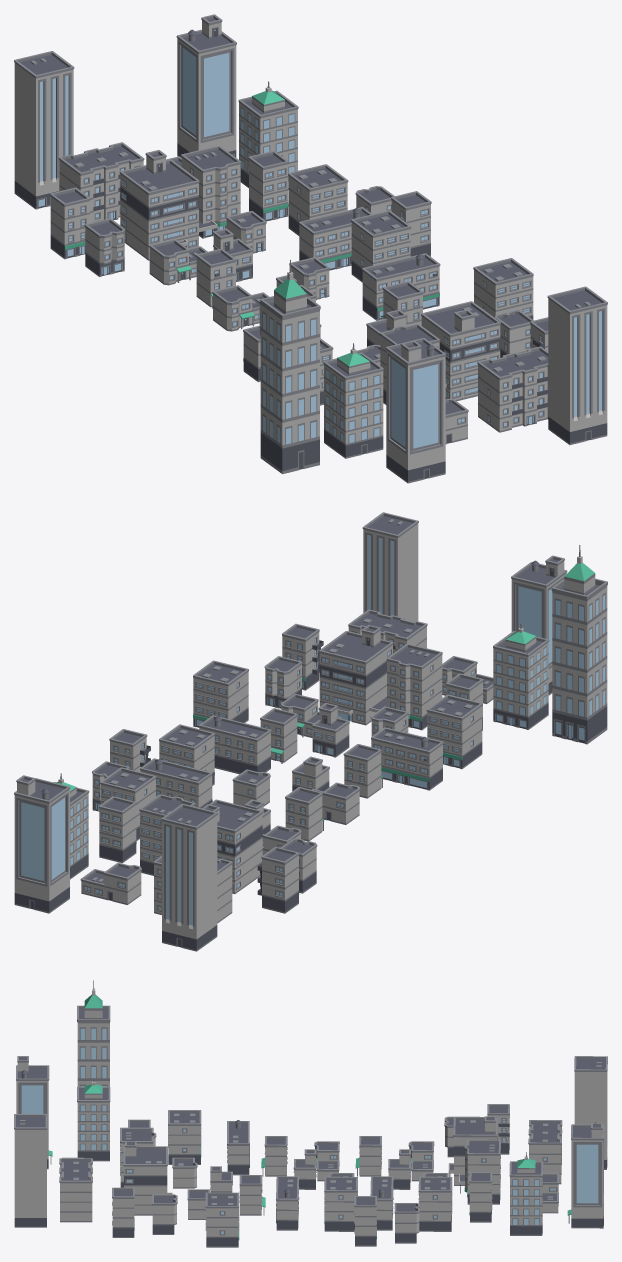
Rendered from fondo2.glb.
3 renders of one model, top to bottom at view 1: azimuth 30°, elevation 25°; view 2: azimuth 150°, elevation 25°; view 3: azimuth 270°, elevation 25°, orthographic. The views are drawn at different scales.
Visible parts, largest first — view 1: skyscraperE.002, skyscraperF, skyscraperF.001, skyscraperC, skyscraperC.001, large_buildingG.001, skyscraperE, large_buildingA, large_buildingG, skyscraperE.001, large_buildingA.001, large_buildingE.001 (+22 smaller); view 2: skyscraperE.002, skyscraperF.001, skyscraperC.001, large_buildingG, skyscraperF, skyscraperE, large_buildingE, skyscraperC, large_buildingG.001, large_buildingF, large_buildingD, large_buildingD.003 (+28 smaller); view 3: skyscraperF, skyscraperC.001, skyscraperE.002, large_buildingG, skyscraperE.001, skyscraperE, skyscraperF.001, large_buildingA, large_buildingD.003, skyscraperC, large_buildingD.001, large_buildingD.002 (+25 smaller).
Part boxes in pixels (x1,y1,x2,y2): skyscraperE.002: [260, 259, 320, 474]; skyscraperF: [547, 286, 607, 444]; skyscraperF.001: [14, 51, 74, 209]; skyscraperC: [385, 338, 445, 483]; skyscraperC.001: [176, 14, 236, 157]; large_buildingG.001: [119, 150, 217, 260]; skyscraperE: [323, 343, 383, 458]; large_buildingA: [477, 346, 548, 432]; large_buildingG: [421, 301, 500, 400]; skyscraperE.001: [238, 81, 298, 189]; large_buildingA.001: [58, 142, 144, 222]; large_buildingE.001: [181, 145, 241, 238]; skyscraperE.002: [551, 545, 607, 744]; skyscraperF.001: [161, 804, 217, 951]; skyscraperC.001: [14, 775, 70, 913]; large_buildingG: [319, 625, 393, 725]; skyscraperF: [362, 512, 418, 621]; skyscraperE: [493, 622, 549, 729]; large_buildingE: [386, 643, 442, 730]; skyscraperC: [511, 555, 567, 695]; large_buildingG.001: [202, 799, 262, 893]; large_buildingF: [371, 727, 443, 790]; large_buildingD: [426, 694, 482, 769]; large_buildingD.003: [193, 660, 248, 727]; skyscraperF: [14, 1114, 47, 1227]; skyscraperC.001: [567, 1122, 604, 1228]; skyscraperE.002: [77, 980, 110, 1086]; large_buildingG: [123, 1141, 172, 1215]; skyscraperE.001: [509, 1152, 543, 1235]; skyscraperE: [77, 1077, 110, 1161]; skyscraperF.001: [574, 1056, 607, 1169]; large_buildingA: [59, 1158, 92, 1222]; large_buildingD.003: [205, 1192, 239, 1247]; skyscraperC: [16, 1056, 52, 1169]; large_buildingD.001: [418, 1176, 452, 1231]; large_buildingD.002: [324, 1176, 357, 1231].
Bounding box in the file's own units: 10.81 × 6.17 × 22.01.
